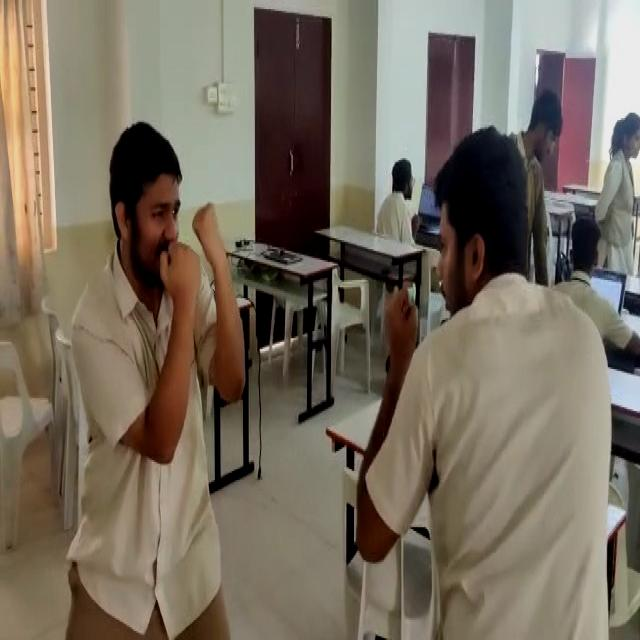fight: (62, 70, 574, 608)
